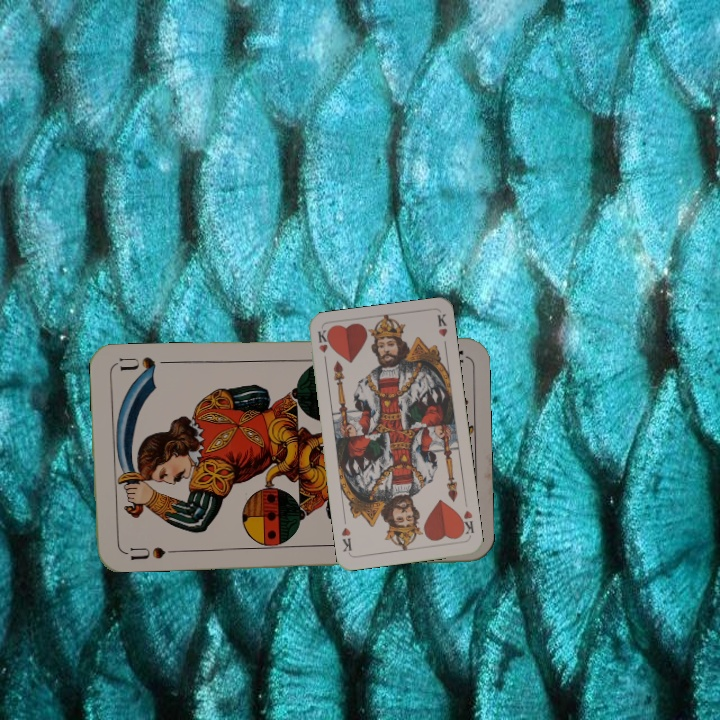HK: (314, 326, 331, 367), (456, 507, 476, 539)
SU: (119, 543, 168, 562)
